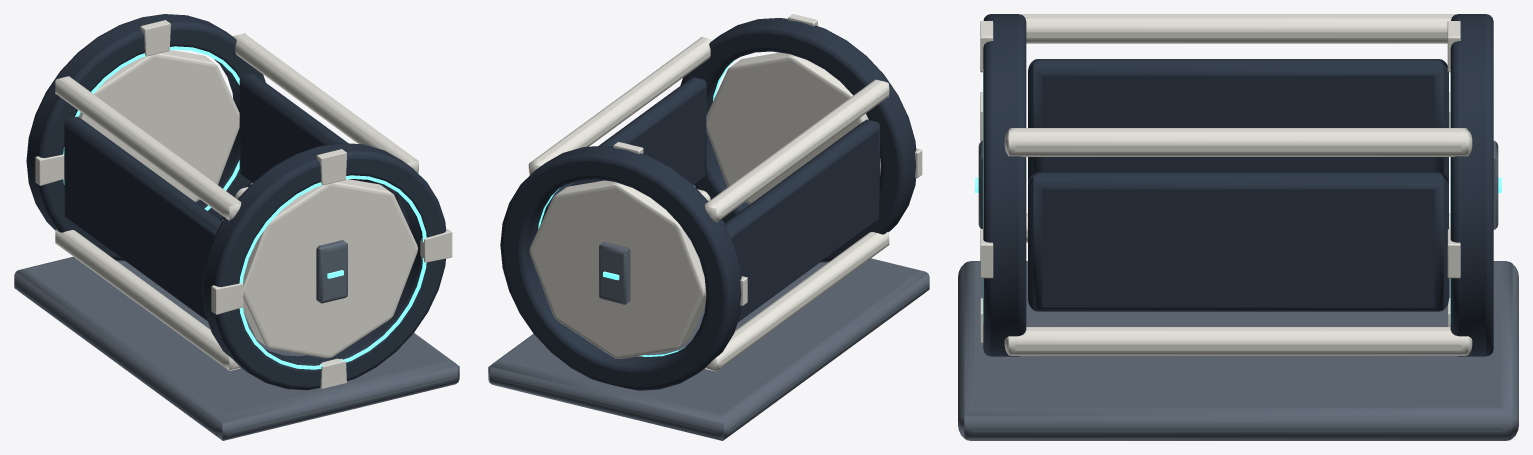
The model's file is approval_airlock.glb.
3 views of the same model, side by side, from view 1: azimuth 30°, elevation 25°; view 2: azimuth 150°, elevation 25°; view 3: azimuth 270°, elevation 25° (orthographic). The views are drawn at different scales.
Visible parts, largest first — view 1: approval_airlock__foot, approval_airlock__door_in, approval_airlock__portal_frame__02, approval_airlock__side_shell, approval_airlock__portal_frame, approval_airlock__door_out, approval_airlock__side_shell__02, approval_airlock__axial_support__02, approval_airlock__axial_support, approval_airlock__axial_support__04, approval_airlock__portal_frame_emissive__02, approval_airlock__lock_in (+5 smaller); view 2: approval_airlock__foot, approval_airlock__portal_frame, approval_airlock__door_out, approval_airlock__side_shell, approval_airlock__portal_frame__02, approval_airlock__door_in, approval_airlock__side_shell__02, approval_airlock__axial_support__02, approval_airlock__axial_support, approval_airlock__axial_support__04, approval_airlock__lock_out; view 3: approval_airlock__foot, approval_airlock__side_shell__02, approval_airlock__side_shell, approval_airlock__portal_frame, approval_airlock__axial_support__04, approval_airlock__portal_frame__02, approval_airlock__axial_support__03, approval_airlock__axial_support__02, approval_airlock__portal_frame_armor, approval_airlock__portal_frame_armor__05.
Boxes of the visible parts, <box> form: approval_airlock__foot: <box>14,220,459,440</box>; approval_airlock__door_in: <box>243,179,417,358</box>; approval_airlock__portal_frame__02: <box>202,143,446,390</box>; approval_airlock__side_shell: <box>64,116,221,321</box>; approval_airlock__portal_frame: <box>26,14,265,260</box>; approval_airlock__door_out: <box>78,50,239,202</box>; approval_airlock__side_shell__02: <box>239,74,409,226</box>; approval_airlock__axial_support__02: <box>55,76,241,220</box>; approval_airlock__axial_support: <box>55,229,240,370</box>; approval_airlock__axial_support__04: <box>233,33,418,173</box>; approval_airlock__portal_frame_emissive__02: <box>239,175,426,369</box>; approval_airlock__lock_in: <box>316,240,347,303</box>; approval_airlock__foot: <box>488,222,929,440</box>; approval_airlock__portal_frame: <box>500,142,747,390</box>; approval_airlock__door_out: <box>529,180,706,358</box>; approval_airlock__side_shell: <box>724,119,879,321</box>; approval_airlock__portal_frame__02: <box>680,18,916,262</box>; approval_airlock__door_in: <box>706,52,880,204</box>; approval_airlock__side_shell__02: <box>541,77,706,222</box>; approval_airlock__axial_support__02: <box>704,79,889,222</box>; approval_airlock__axial_support: <box>705,231,889,371</box>; approval_airlock__axial_support__04: <box>528,37,712,175</box>; approval_airlock__lock_out: <box>599,242,630,304</box>; approval_airlock__foot: <box>958,261,1518,440</box>; approval_airlock__side_shell__02: <box>1028,172,1448,311</box>; approval_airlock__side_shell: <box>1028,59,1448,182</box>; approval_airlock__portal_frame: <box>1447,14,1493,356</box>; approval_airlock__axial_support__04: <box>1004,128,1472,156</box>; approval_airlock__portal_frame__02: <box>983,14,1026,356</box>; approval_airlock__axial_support__03: <box>1004,327,1472,355</box>; approval_airlock__axial_support__02: <box>1020,14,1456,43</box>; approval_airlock__portal_frame_armor: <box>1447,229,1460,278</box>; approval_airlock__portal_frame_armor__05: <box>980,229,993,278</box>.
Size of the model in its own units: 2 by 2 by 3.
